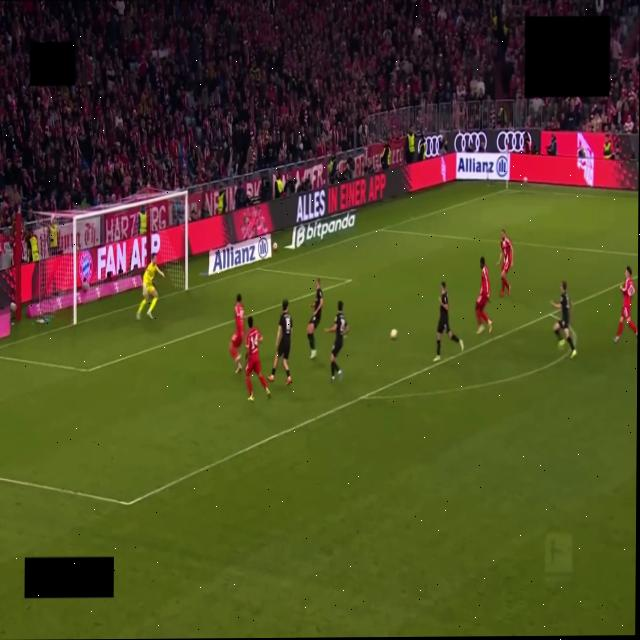ball: (390, 329, 397, 340)
player: (434, 283, 463, 362), (268, 299, 293, 385), (245, 317, 270, 401), (551, 282, 576, 357), (326, 301, 348, 382), (137, 254, 164, 319), (614, 267, 637, 342), (307, 279, 323, 358), (476, 257, 492, 333), (229, 294, 244, 373), (498, 229, 512, 296)
